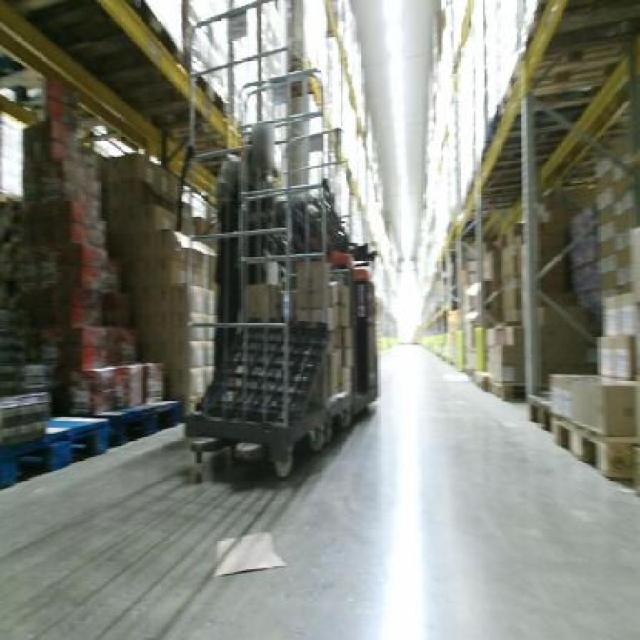pallet: (543, 412, 625, 491)
